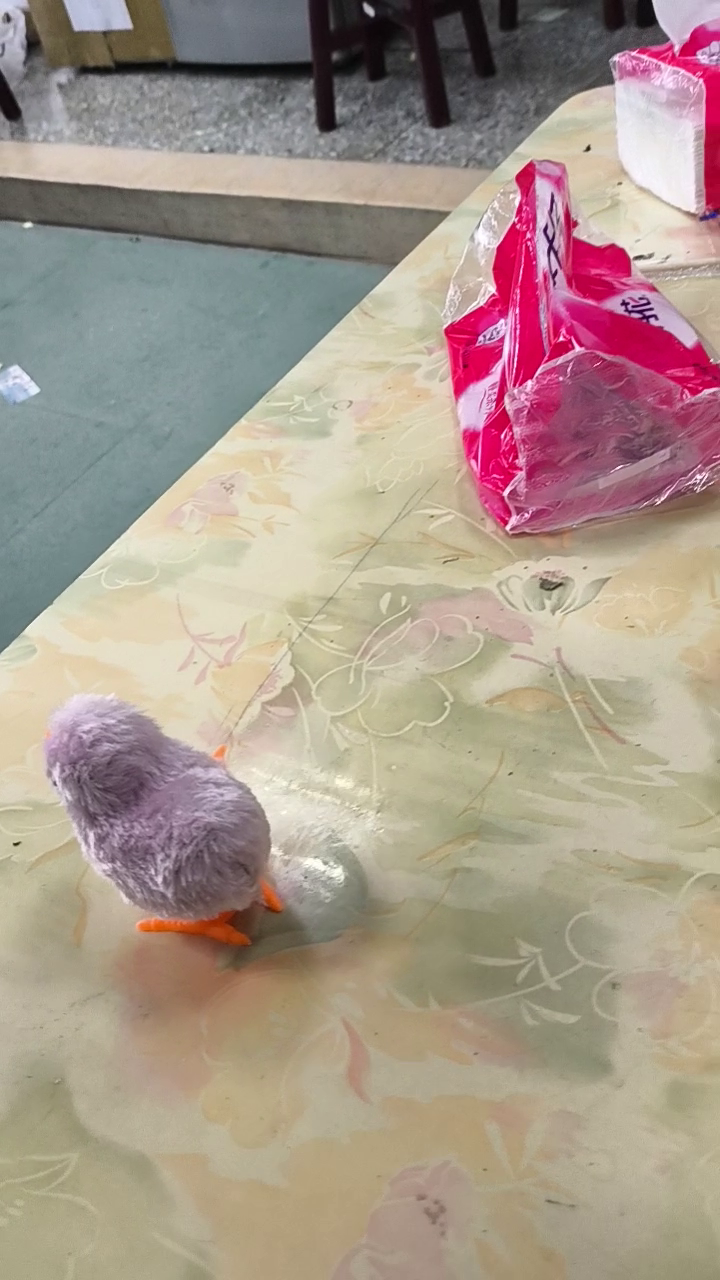pink chicken: (39, 693, 289, 951)
